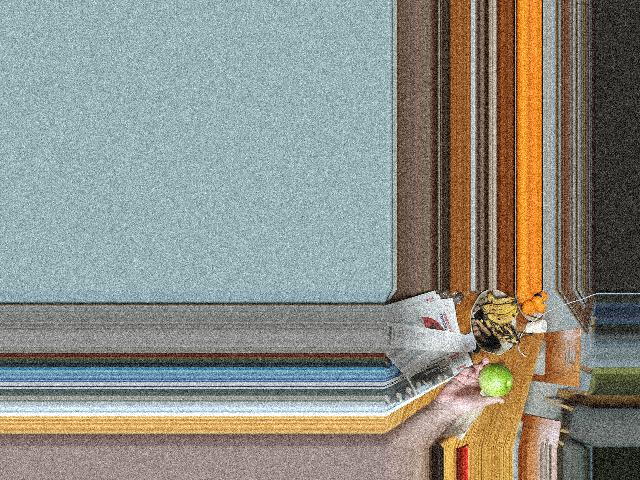apple: (477, 366, 512, 395)
